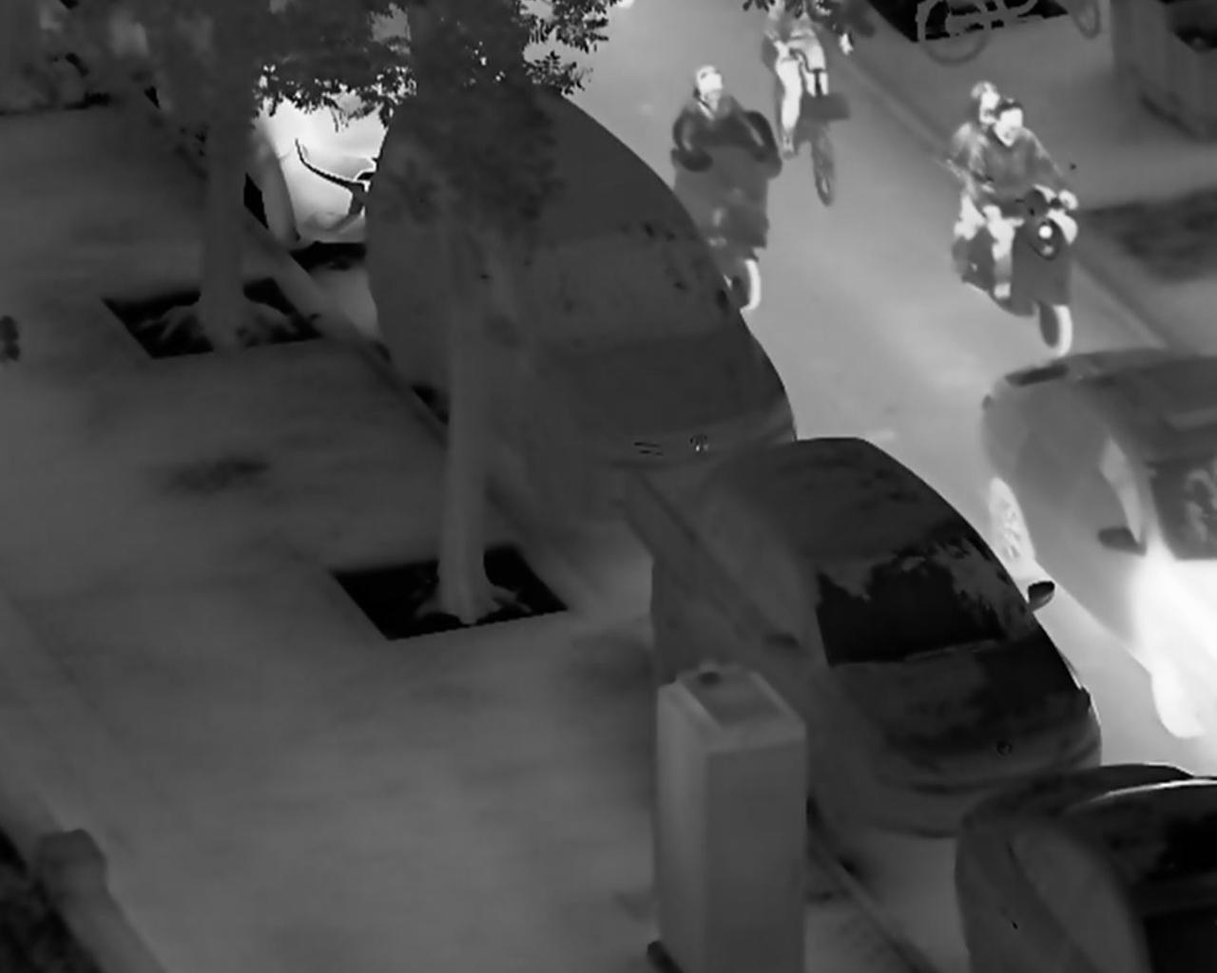person: (965, 96, 1085, 305), (938, 76, 1006, 254), (666, 63, 768, 178)
